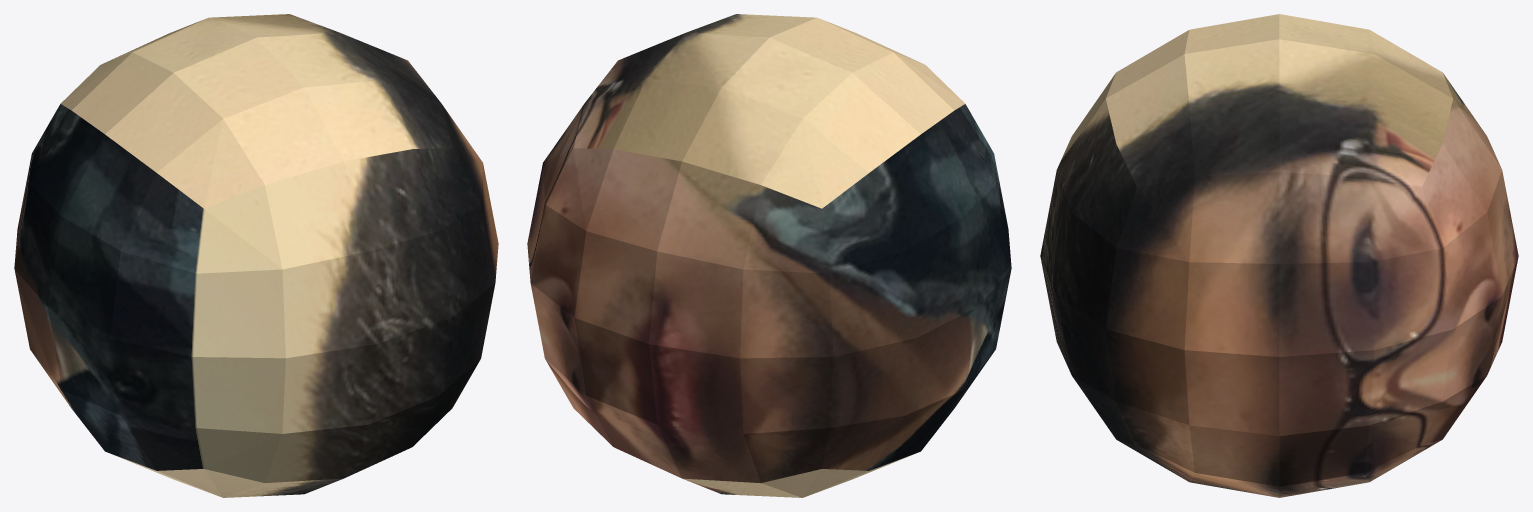
Rendered from enemy.obj.
The picture shows the model from 3 angles, left to right: view 1: azimuth 30°, elevation 25°; view 2: azimuth 150°, elevation 25°; view 3: azimuth 270°, elevation 25°; orthographic projection.
Parts seen in each view (by area): view 1: Cube; view 2: Cube; view 3: Cube.
Boxes of the visible parts, box(x1,y1,x2,y2) form: Cube: box(14, 14, 498, 497); Cube: box(527, 14, 1011, 497); Cube: box(1040, 14, 1518, 497).
Bounding box in the file's own units: 168 × 168 × 168.
1 material, 1 textured.
